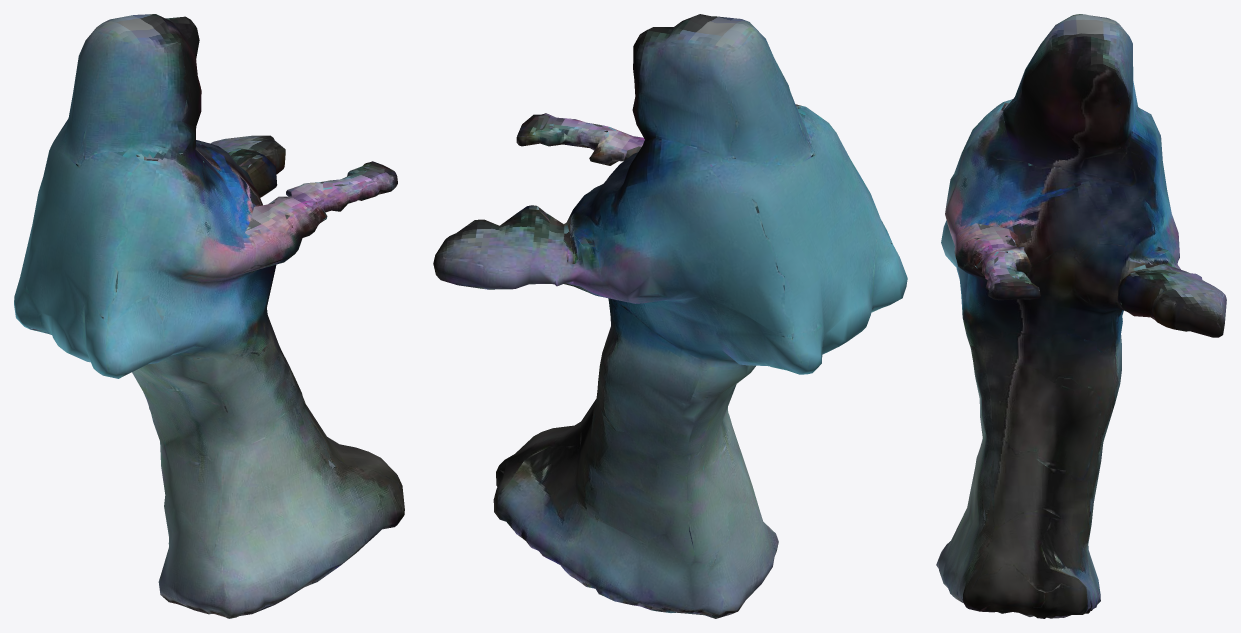
3 renders of one model, left to right at view 1: azimuth 30°, elevation 25°; view 2: azimuth 150°, elevation 25°; view 3: azimuth 270°, elevation 25°, orthographic. The views are drawn at different scales.
Parts seen in each view (by area): view 1: Mesh_0; view 2: Mesh_0; view 3: Mesh_0.
Boxes of the visible parts, x1,y1,x2,y2 form: Mesh_0: [14, 14, 404, 618]; Mesh_0: [433, 14, 907, 618]; Mesh_0: [936, 14, 1226, 618].
Size of the model in its own units: 74.47 by 120 by 57.77.
Materials: 1 (1 with a texture image).
